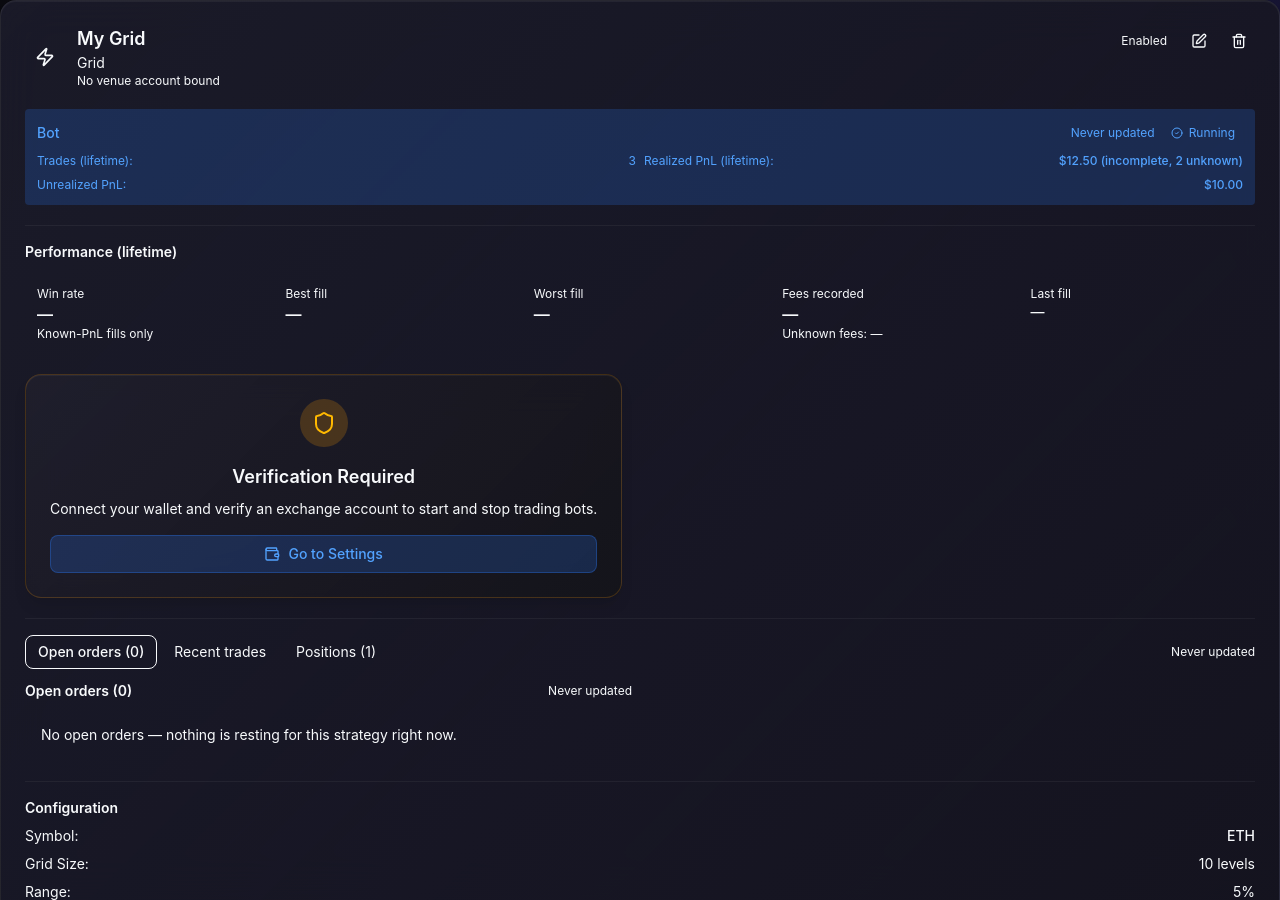
StrategyWorkspace › narrows the positions book to the strategy's market and labels the attribution
Click the tab "Positions (1)": (336, 652) [283,635,389,669]
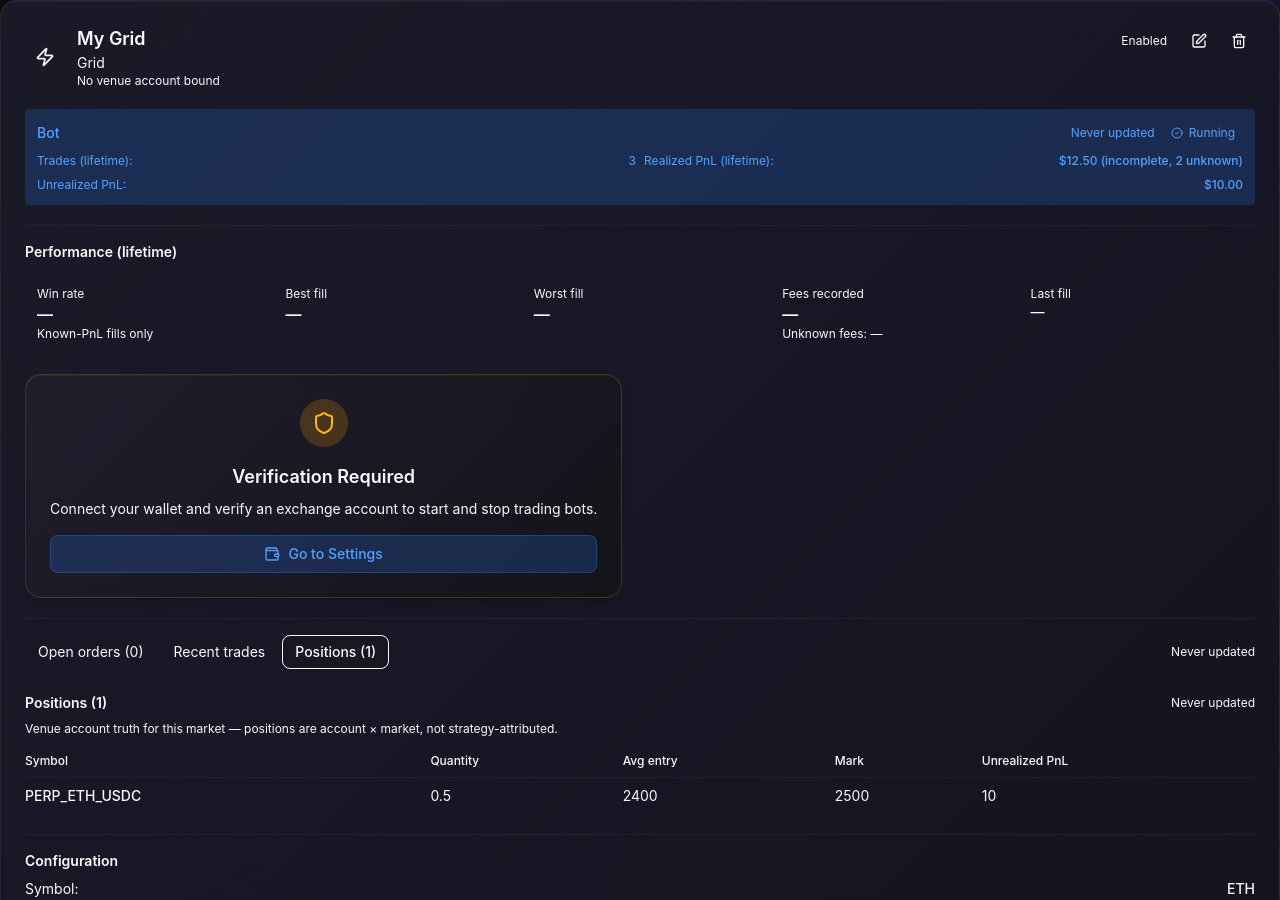
Expected: the text "not strategy-attributed" is shown, [25,721,558,736]
Expected: the text "PERP_ETH_USDC" is shown, [25,778,430,814]
